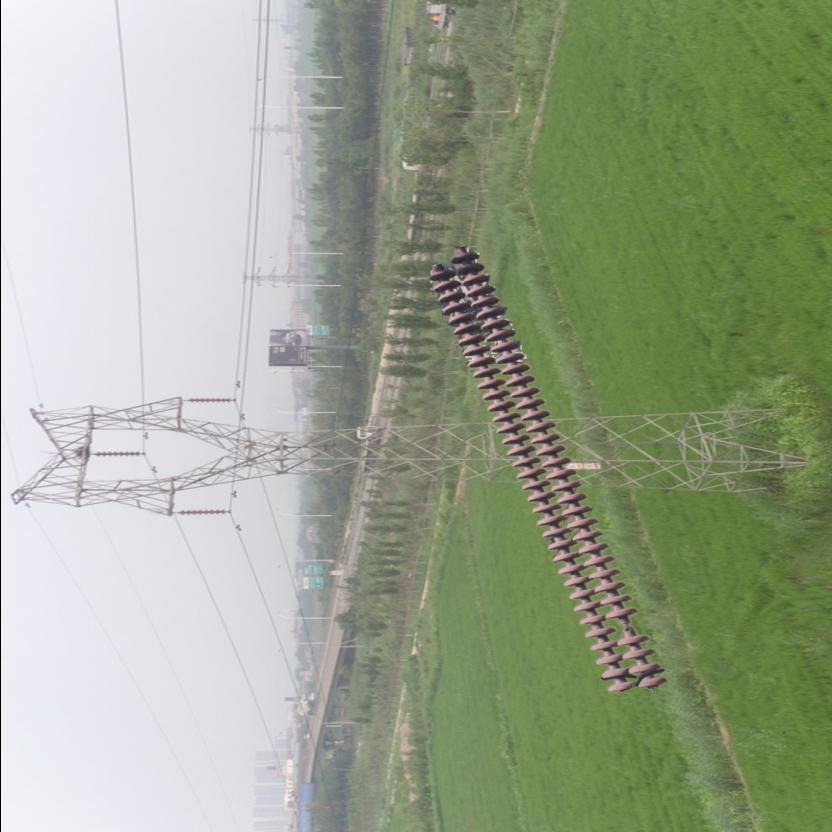defect: (603, 604, 649, 646)
